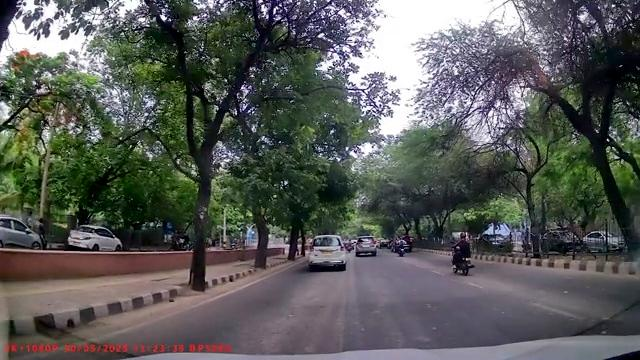motorcycle_with_helmet: (450, 231, 475, 276)
